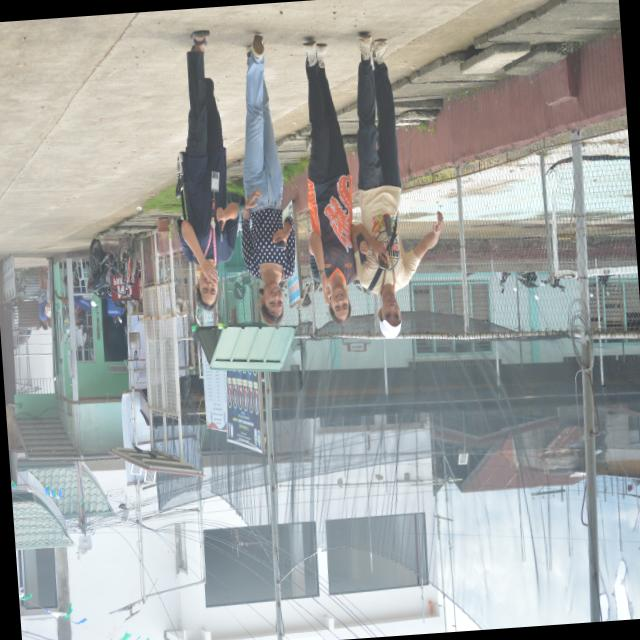person: (354, 33, 443, 337), (178, 30, 239, 310), (241, 34, 295, 325), (303, 40, 356, 323), (38, 266, 48, 329), (106, 295, 125, 326)
